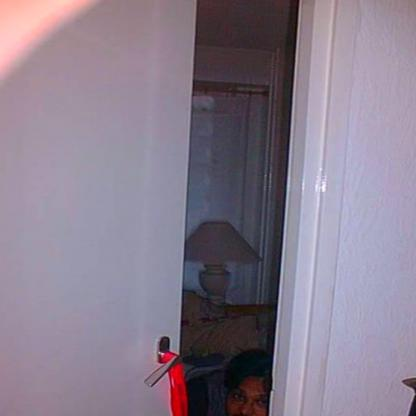door: (0, 0, 174, 415)
lever: (143, 346, 179, 392)
